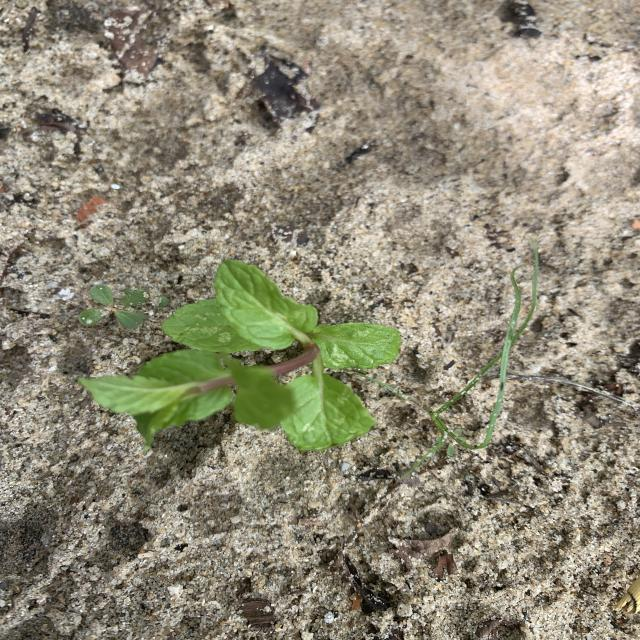crop: (79, 260, 399, 450)
weed: (480, 240, 539, 450), (400, 372, 485, 480), (90, 284, 149, 329), (79, 308, 104, 326)
